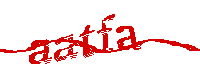a: (53, 34, 78, 63), (27, 39, 52, 65), (116, 25, 141, 51)
f: (97, 13, 115, 53)
t: (79, 24, 96, 58)
